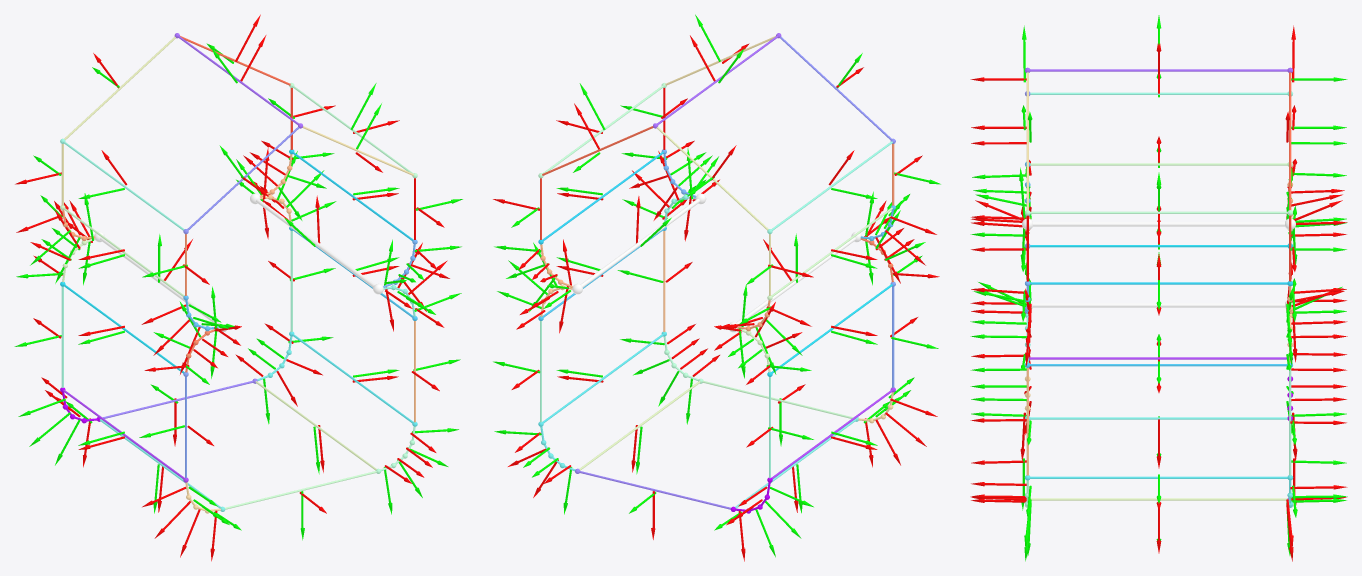
The model's file is onshape_house.gltf.
3 renders of one model, left to right at view 1: azimuth 30°, elevation 25°; view 2: azimuth 150°, elevation 25°; view 3: azimuth 270°, elevation 25°, orthographic. The views are drawn at different scales.
Bounding box in the file's own units: 0.6892 × 0.9246 × 0.6561.
